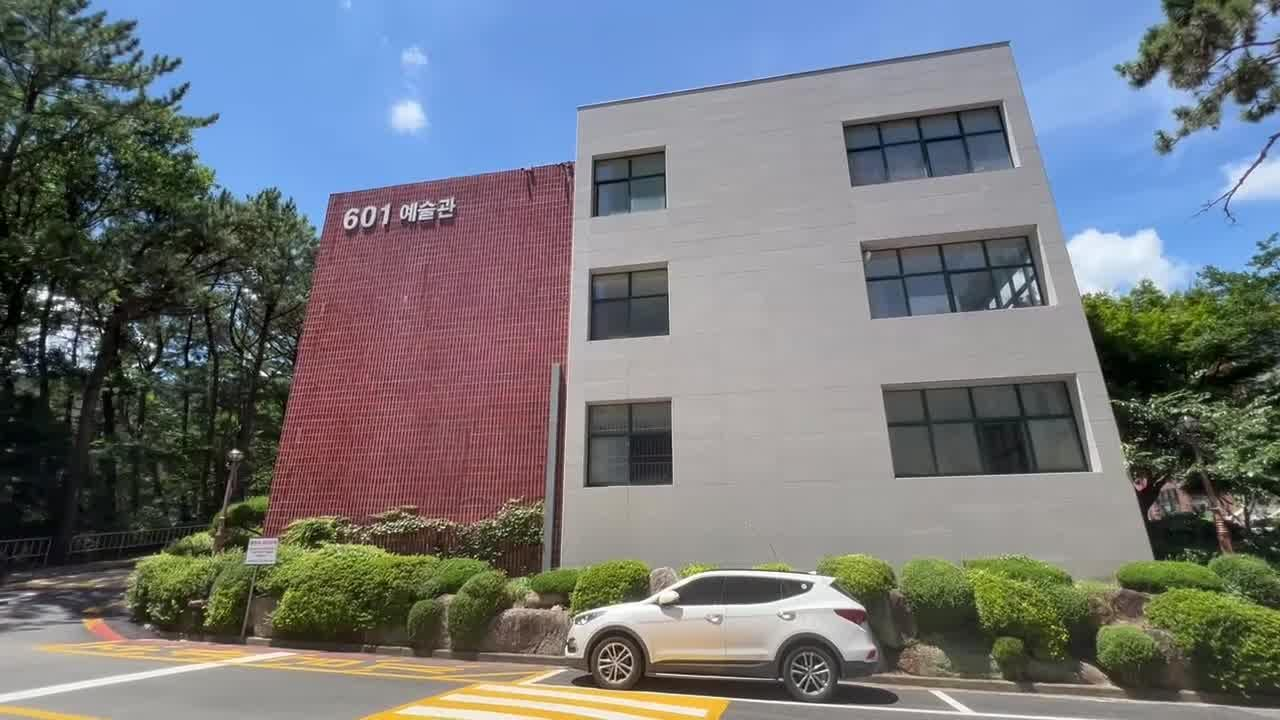building: (311, 23, 1132, 531)
